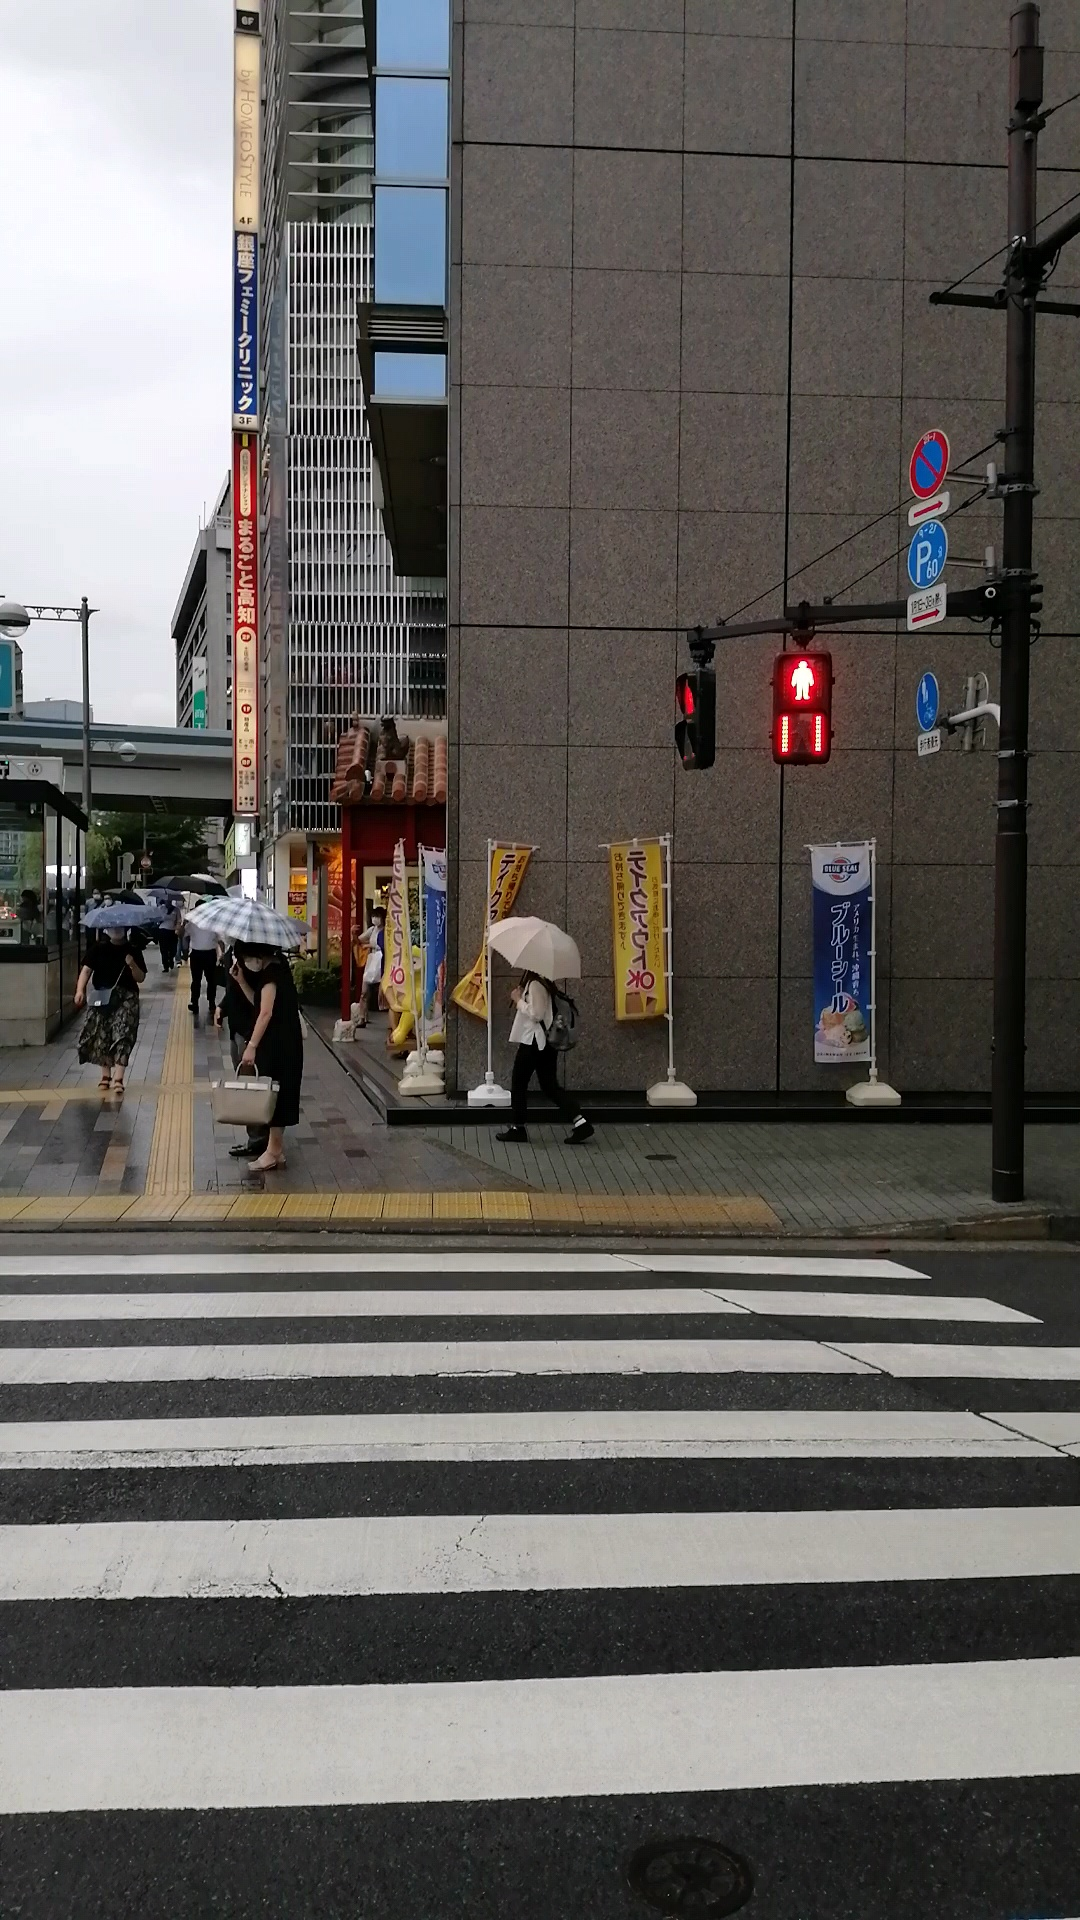red: (771, 651, 832, 765), (673, 675, 711, 767)
